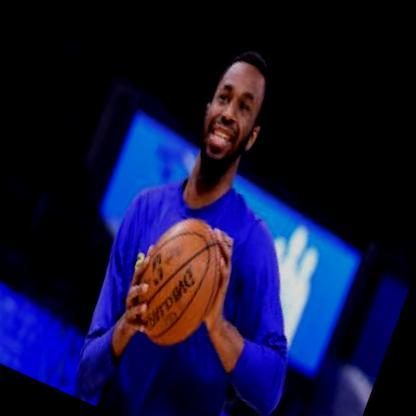basketball: (122, 195, 242, 360)
